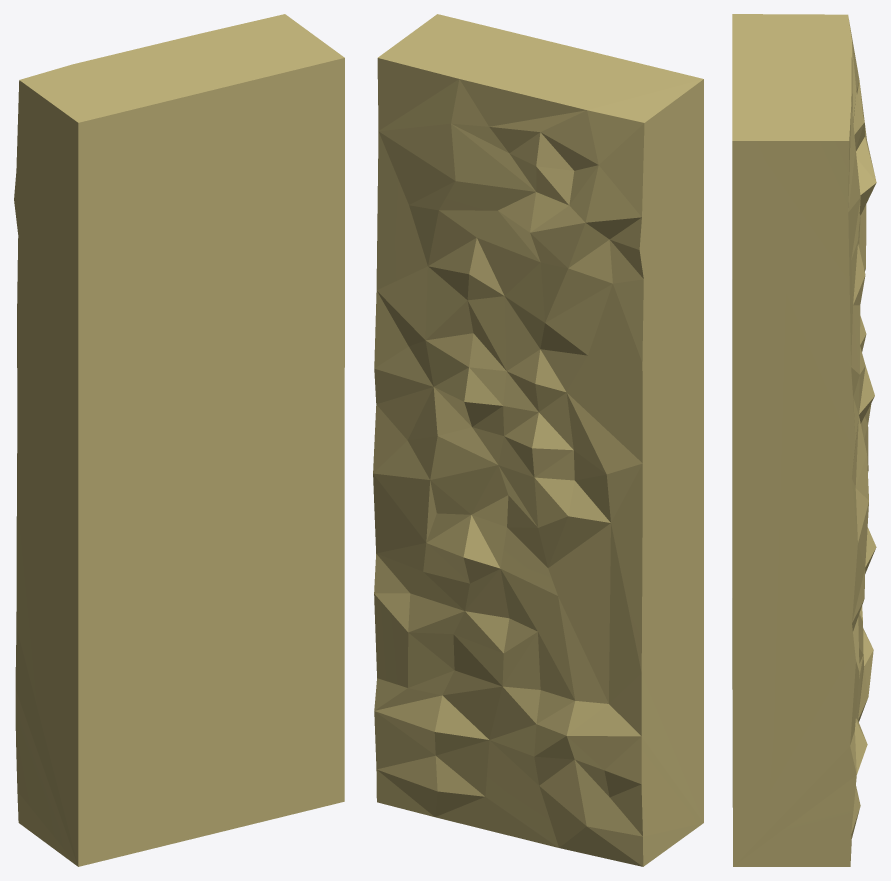
Rendered from ChestGold.fbx.
The picture shows the model from 3 angles, left to right: view 1: azimuth 30°, elevation 25°; view 2: azimuth 150°, elevation 25°; view 3: azimuth 270°, elevation 25°; orthographic projection. The views are drawn at different scales.
Visible parts, largest first — view 1: Loot; view 2: Loot; view 3: Loot.
Part boxes in pixels (x1,y1,x2,y2): Loot: [14, 14, 344, 866]; Loot: [373, 14, 703, 866]; Loot: [732, 14, 876, 866].
Size of the model in its own units: 154 by 411 by 73.98.
